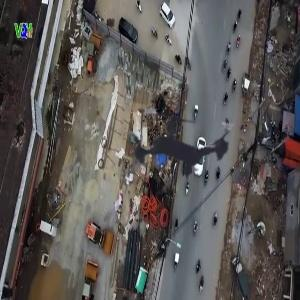drone: (94, 64, 261, 231)
